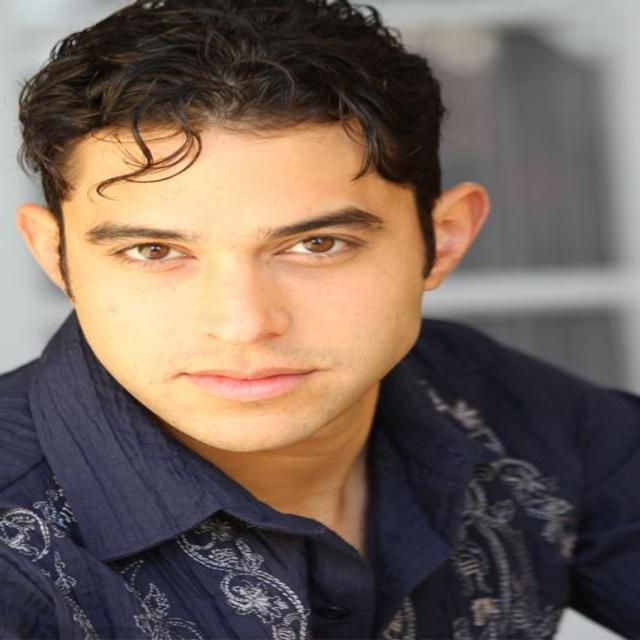Face: (45, 117, 439, 442)
